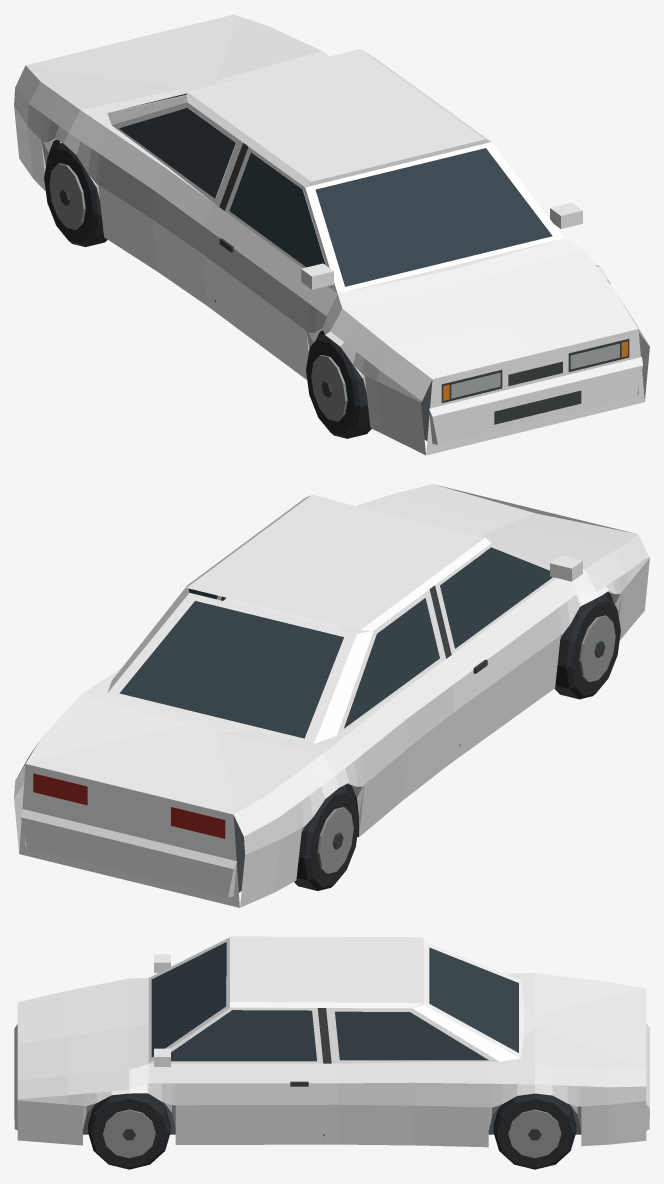
The model's file is hayase_shiden.glb.
3 renders of one model, top to bottom at view 1: azimuth 30°, elevation 25°; view 2: azimuth 150°, elevation 25°; view 3: azimuth 270°, elevation 25°, orthographic. The views are drawn at different scales.
Visible parts, largest first — view 1: hayase_shiden; view 2: hayase_shiden; view 3: hayase_shiden.
Boxes of the visible parts, x1,y1,x2,y2 form: hayase_shiden: (14, 14, 649, 455); hayase_shiden: (14, 484, 649, 907); hayase_shiden: (14, 936, 649, 1169).
Bounding box in the file's own units: 1.76 × 1.19 × 4.53.
Materials: 8 (1 with a texture image).
